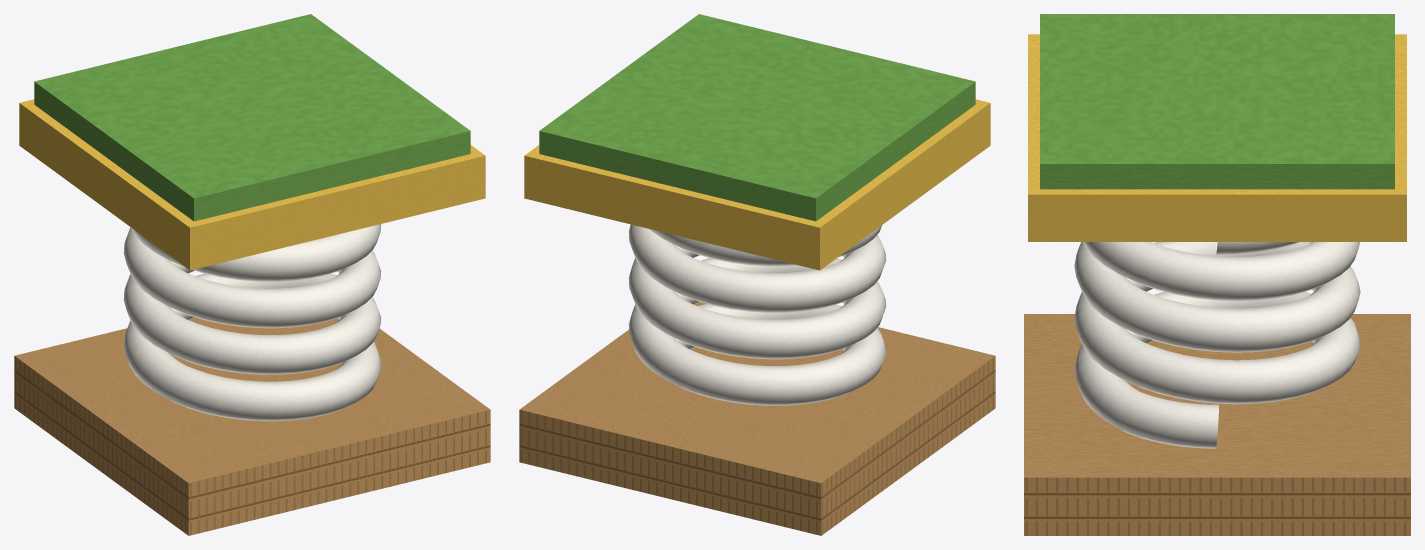
File: spring_1x1x1.obj
3 renders of one model, left to right at view 1: azimuth 30°, elevation 25°; view 2: azimuth 150°, elevation 25°; view 3: azimuth 270°, elevation 25°, orthographic. The views are drawn at different scales.
Visible parts, largest first — view 1: spring_1x1x1; view 2: spring_1x1x1; view 3: spring_1x1x1.
Boxes of the visible parts, x1,y1,x2,y2 form: spring_1x1x1: (14, 14, 490, 535); spring_1x1x1: (519, 14, 995, 535); spring_1x1x1: (1024, 14, 1410, 535).
Bounding box in the file's own units: 0.96 × 1 × 0.96.
Materials: 1 (1 with a texture image).
